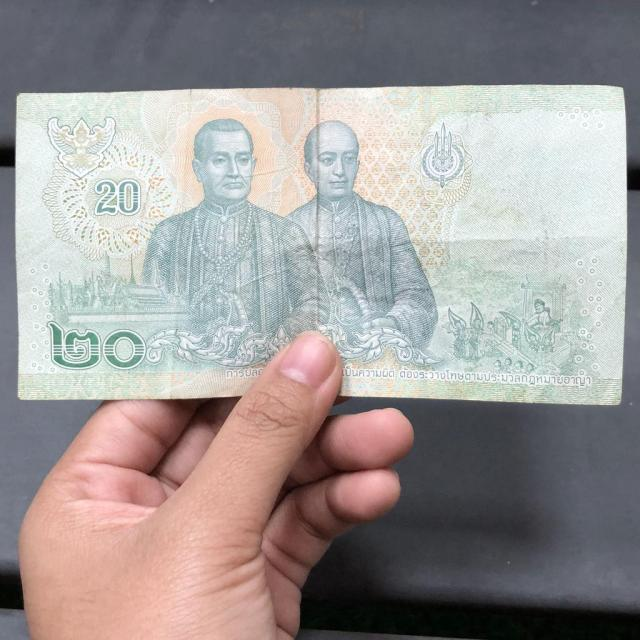THAI20: (16, 85, 626, 404)
